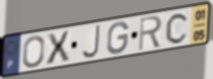C: (164, 11, 190, 45)
G: (105, 21, 130, 56)
J: (80, 23, 102, 60)
O: (22, 34, 46, 70)
R: (138, 14, 164, 53)
X: (45, 29, 71, 67)
